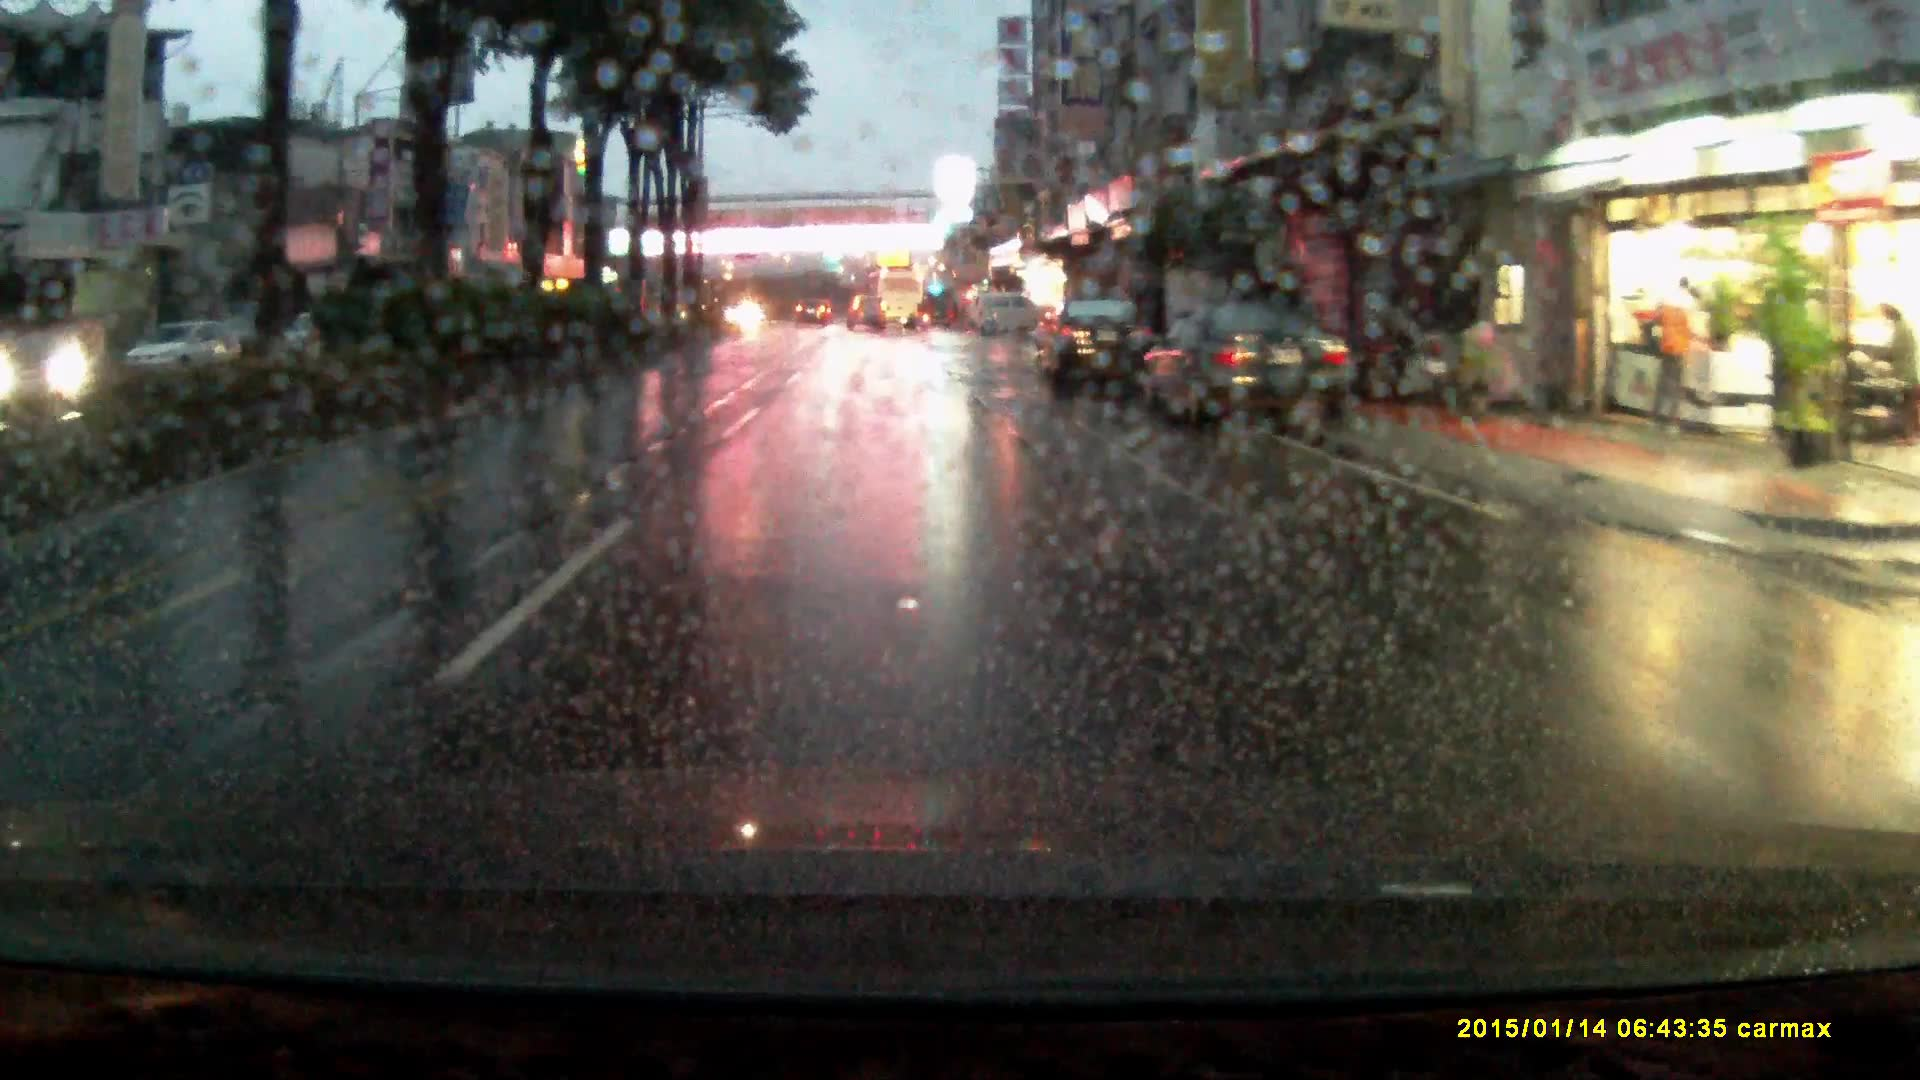vehicle: (1131, 303, 1361, 438), (1043, 298, 1164, 407), (125, 316, 247, 386), (1, 336, 116, 404), (969, 295, 1051, 342), (866, 274, 924, 334), (847, 294, 887, 334), (796, 301, 829, 328)
